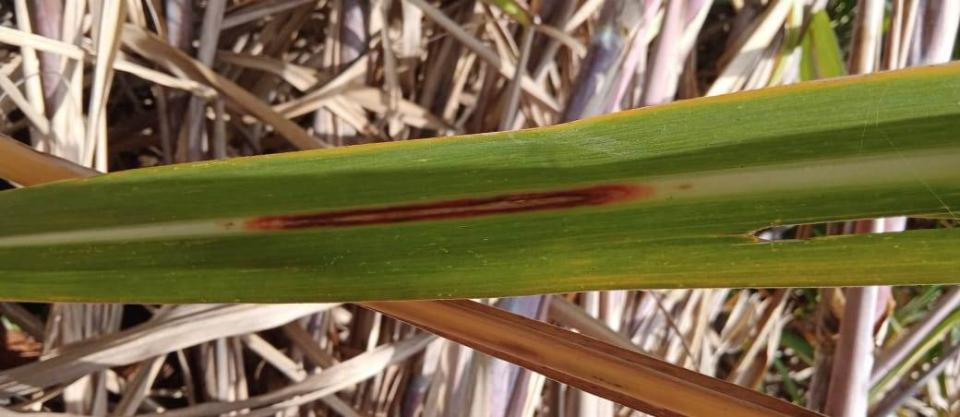RedRot: (220, 181, 695, 232)
